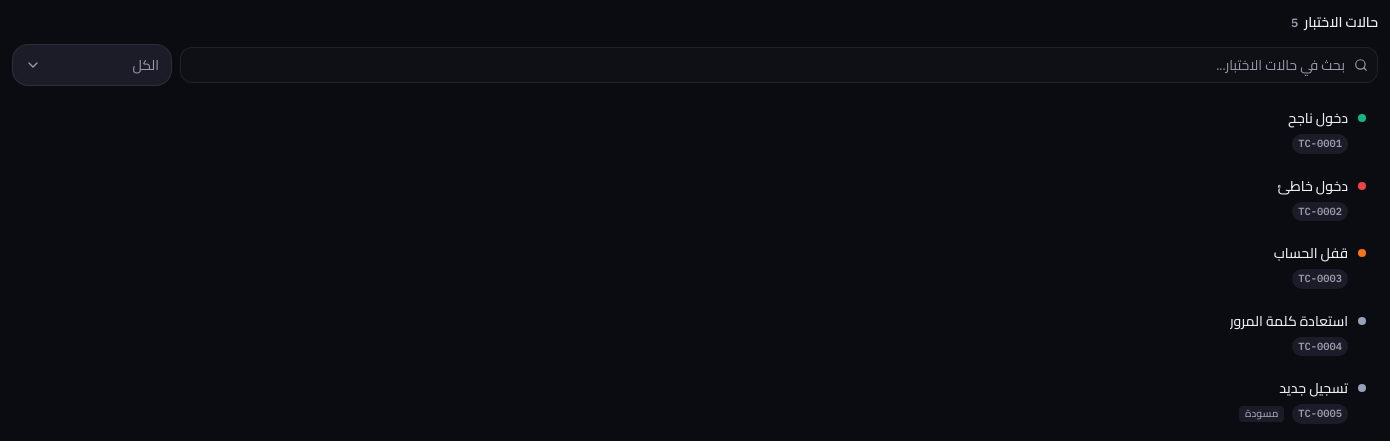
Test: TestCasePanel › narrows the list when a filter is picked
Expected: the button "دخول ناجح TC-0001" is shown, [22,98,1378,164]
What coordinates should you click on to do the following:
click the dropdown named "تصفية حالات الاختبار"
I would click on:
 (92, 65)
Its box is [12,44,172,86].
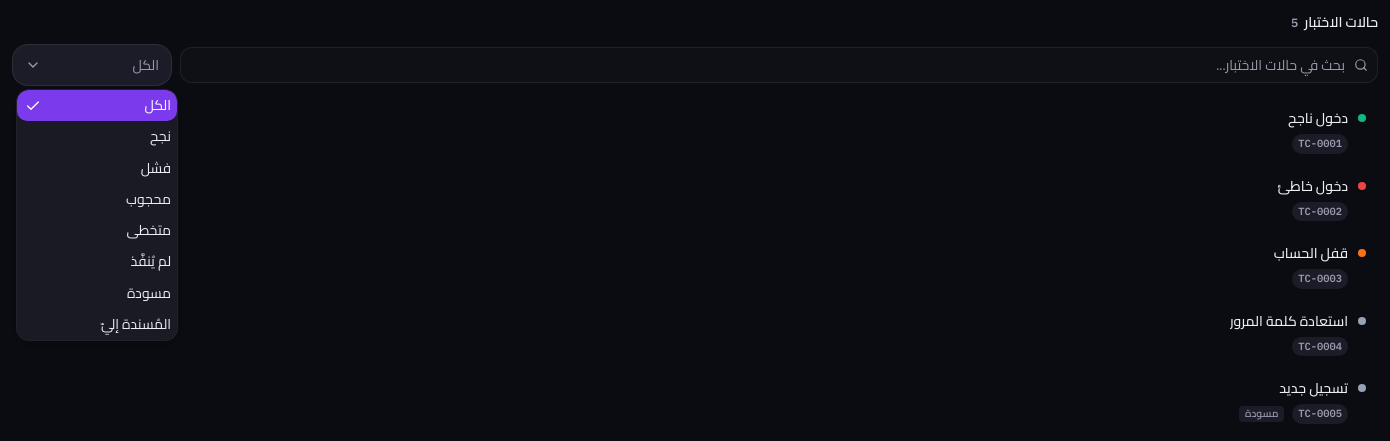
What coordinates should you click on to do the following:
click the option "فشل"
I would click on:
 (156, 168)
Its box is [141,154,171,180].
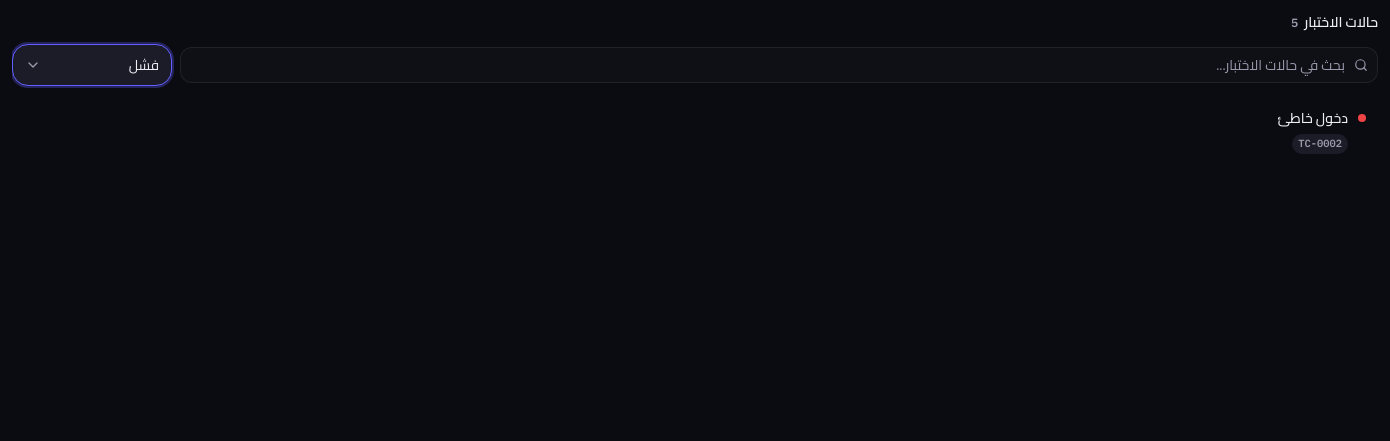
Expected: the button "دخول خاطئ TC-0002" is shown, [22,98,1378,164]
Expected: the button "دخول ناجح" is gone
